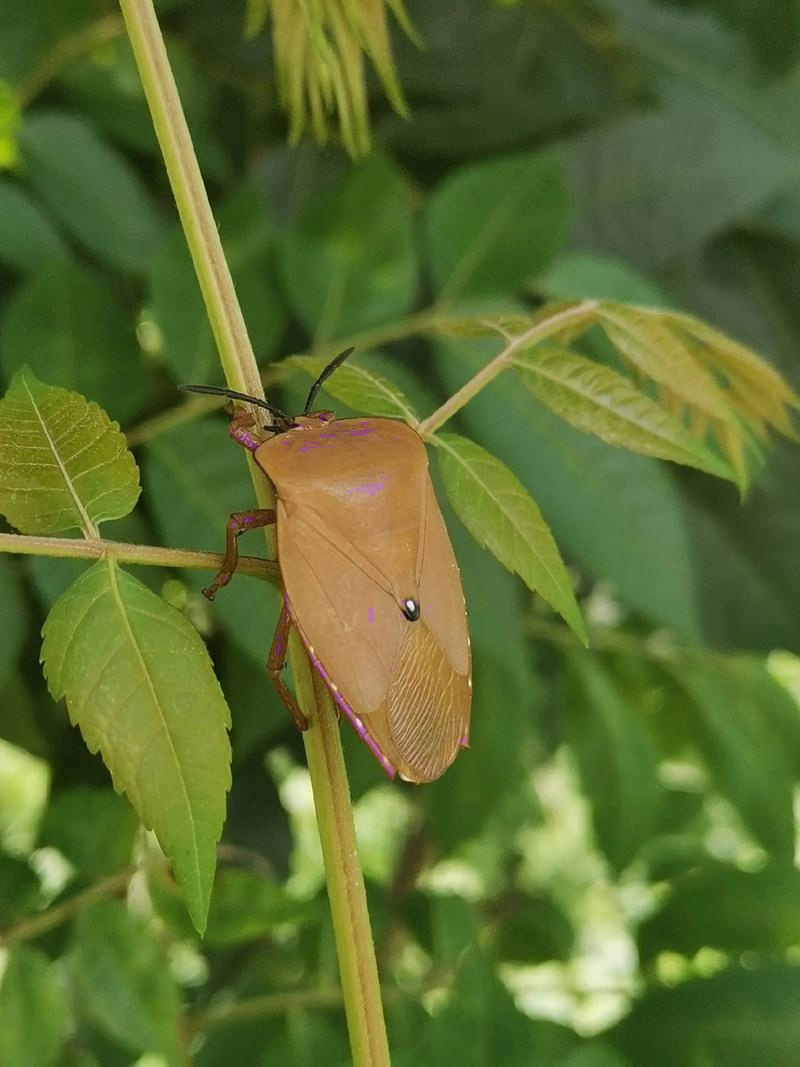Stink_Bug: (219, 384, 491, 788)
